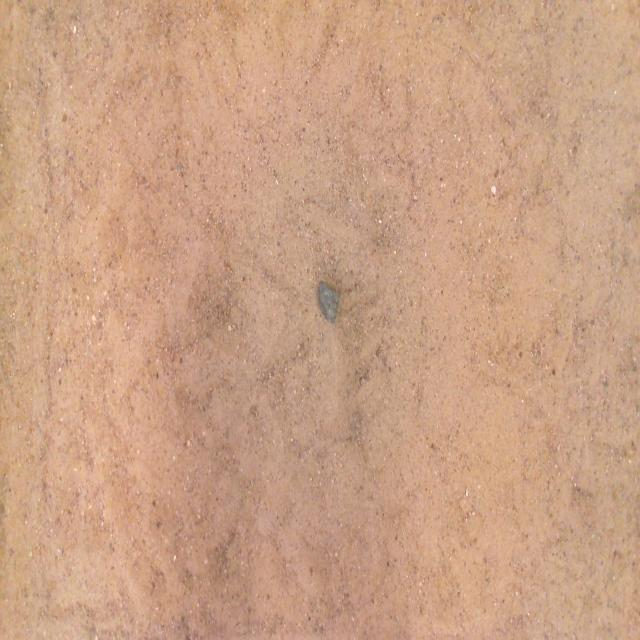rock: (319, 281, 339, 321)
